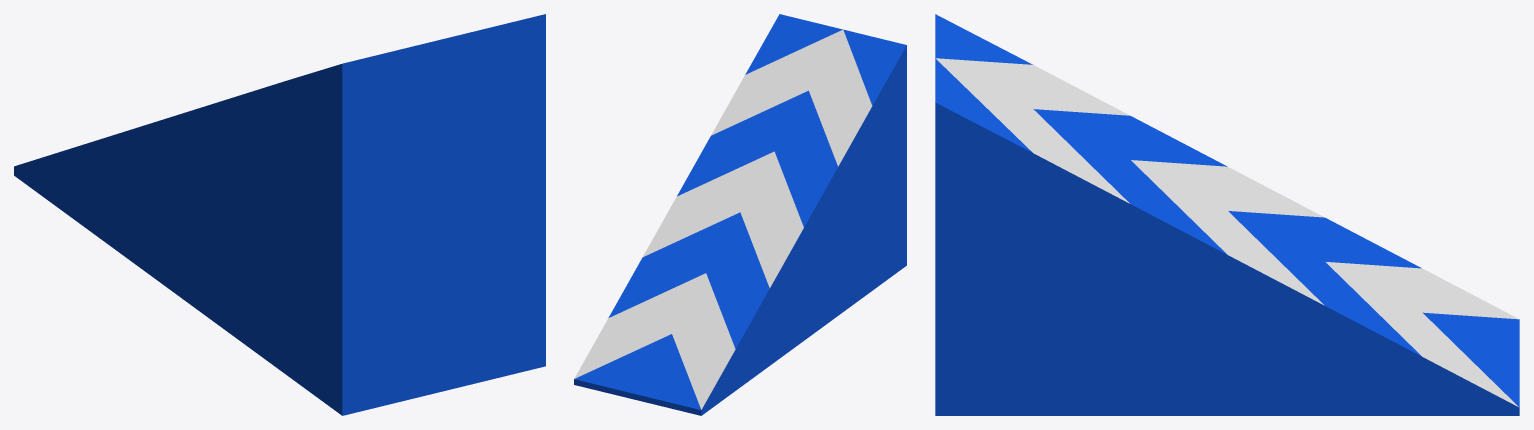
The model's file is Way02_Up_.fbx.
The picture shows the model from 3 angles, left to right: view 1: azimuth 30°, elevation 25°; view 2: azimuth 150°, elevation 25°; view 3: azimuth 270°, elevation 25°; orthographic projection. The views are drawn at different scales.
Parts seen in each view (by area): view 1: Way02_Up_; view 2: Way02_Up_; view 3: Way02_Up_.
Part boxes in pixels (bbox=[...]): Way02_Up_: bbox=[14, 14, 545, 415]; Way02_Up_: bbox=[574, 14, 906, 415]; Way02_Up_: bbox=[935, 14, 1519, 415].
Bounding box in the file's own units: 2 × 5.59 × 3.31.
